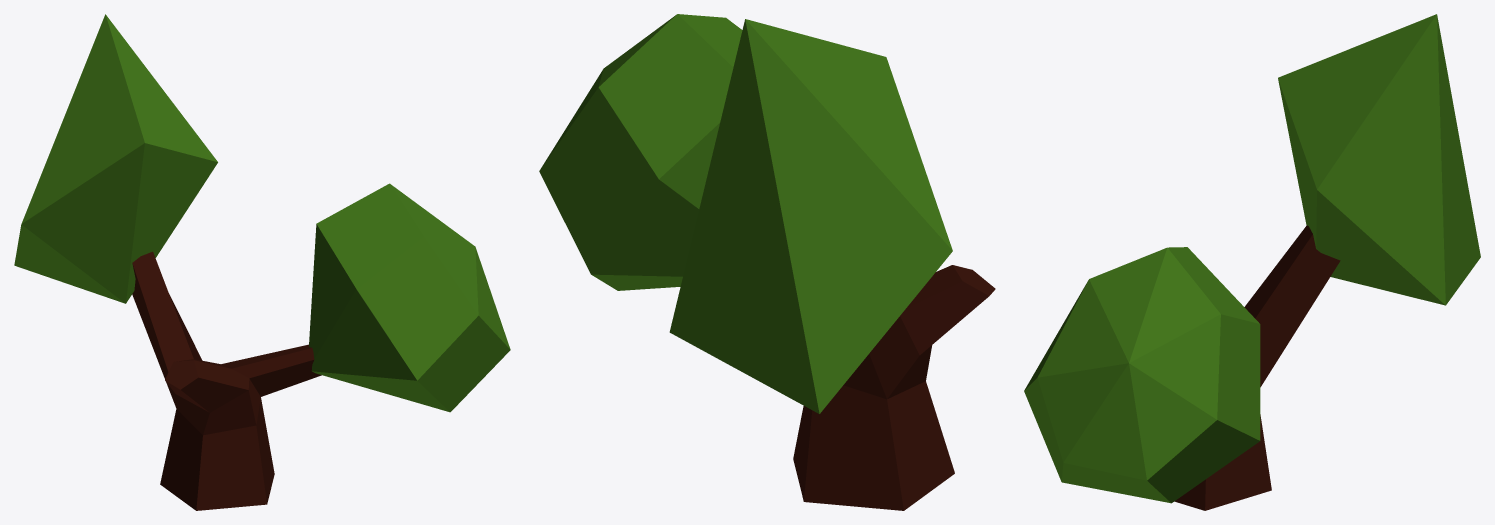
Rendered from SmallTree02.FBX.
3 views of the same model, side by side, from view 1: azimuth 30°, elevation 25°; view 2: azimuth 150°, elevation 25°; view 3: azimuth 270°, elevation 25° (orthographic). The views are drawn at different scales.
Parts seen in each view (by area): view 1: Cylinder002; view 2: Cylinder002; view 3: Cylinder002.
Part boxes in pixels (x1,y1,x2,y2): Cylinder002: [14, 14, 510, 510]; Cylinder002: [539, 14, 995, 510]; Cylinder002: [1024, 14, 1480, 510].
Size of the model in its own units: 11.39 by 10.46 by 11.6.
